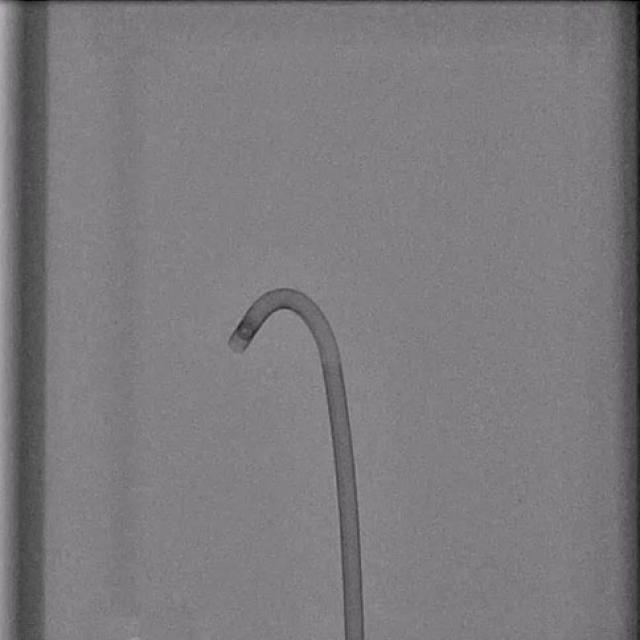bend: (316, 349, 342, 363)
entry: (346, 635, 364, 640)
marker: (235, 322, 258, 341)
tip: (227, 340, 245, 354)
